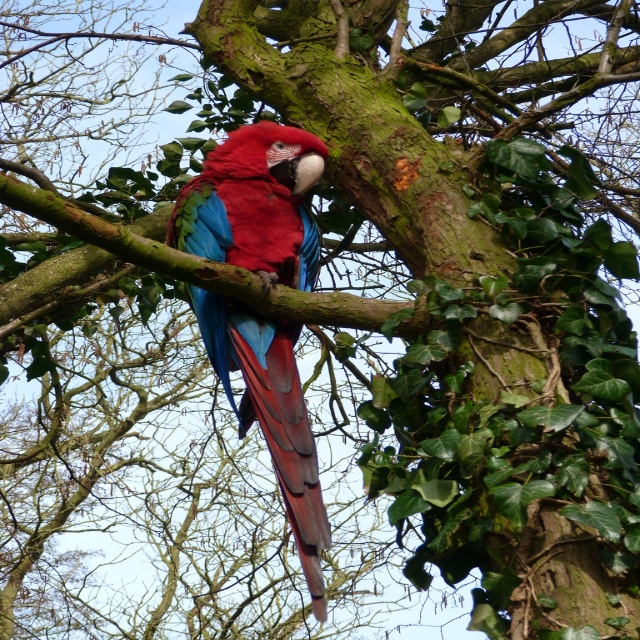Parrot: (167, 120, 332, 623)
